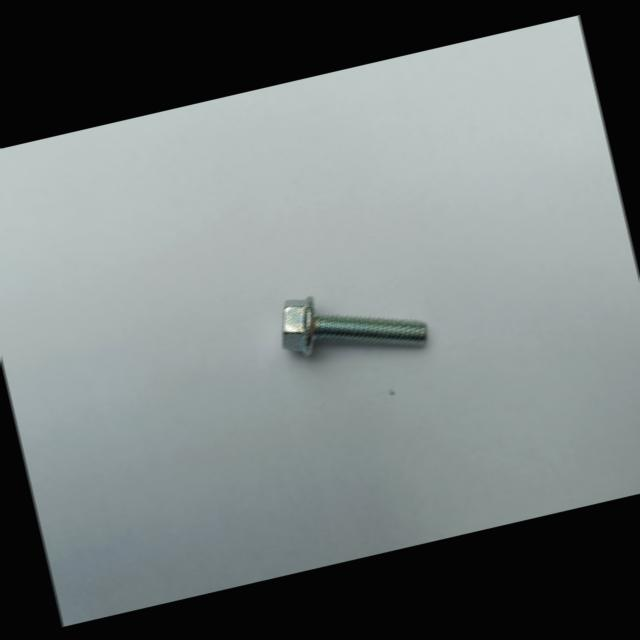bolt: (281, 295, 427, 355)
